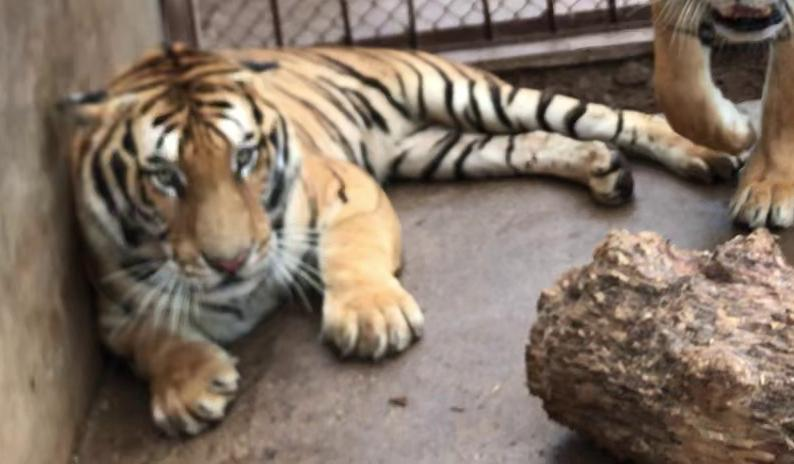tiger: (54, 43, 743, 434)
